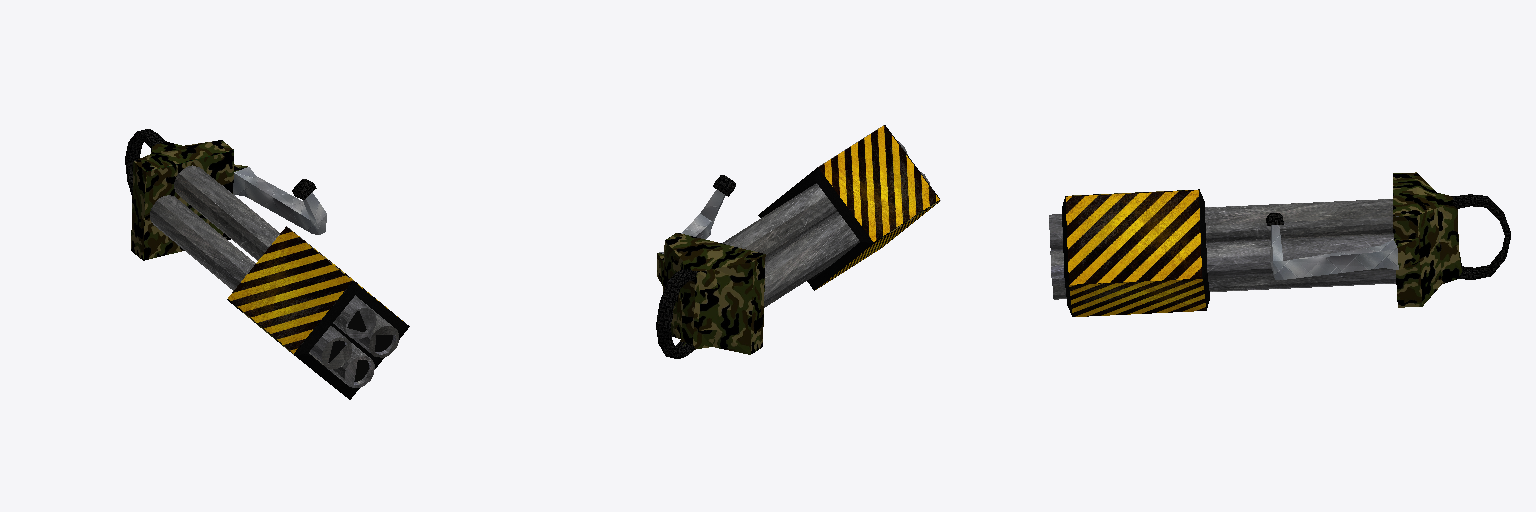
3 views of the same model, side by side, from view 1: azimuth 30°, elevation 25°; view 2: azimuth 150°, elevation 25°; view 3: azimuth 270°, elevation 25° (orthographic).
Visible parts, largest first — view 1: Cylinder.001, Cylinder.000_Cylinder.004, Cube; view 2: Cube, Cylinder.000_Cylinder.004, Cylinder.001; view 3: Cylinder.000_Cylinder.004, Cylinder.001, Cube.
Boxes of the visible parts, box(x1,y1,x2,y2) form: Cylinder.001: box(150, 165, 398, 387); Cylinder.000_Cylinder.004: box(227, 226, 409, 399); Cube: box(125, 129, 326, 260); Cube: box(656, 175, 765, 358); Cylinder.000_Cylinder.004: box(758, 125, 940, 290); Cylinder.001: box(722, 141, 929, 307); Cylinder.000_Cylinder.004: box(1062, 189, 1209, 316); Cylinder.001: box(1049, 199, 1398, 299); Cube: box(1266, 172, 1510, 307).
Size of the model in its own units: 1.75 by 1.63 by 5.17.
3 materials, 1 textured.